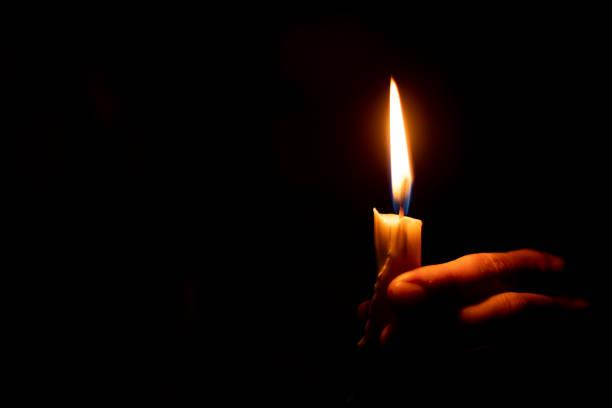Fire: (384, 74, 419, 214)
